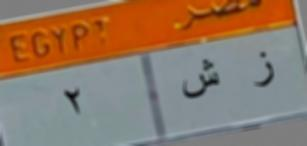2: (59, 77, 86, 124)
sheen: (182, 54, 222, 107)
zay: (252, 48, 282, 96)
